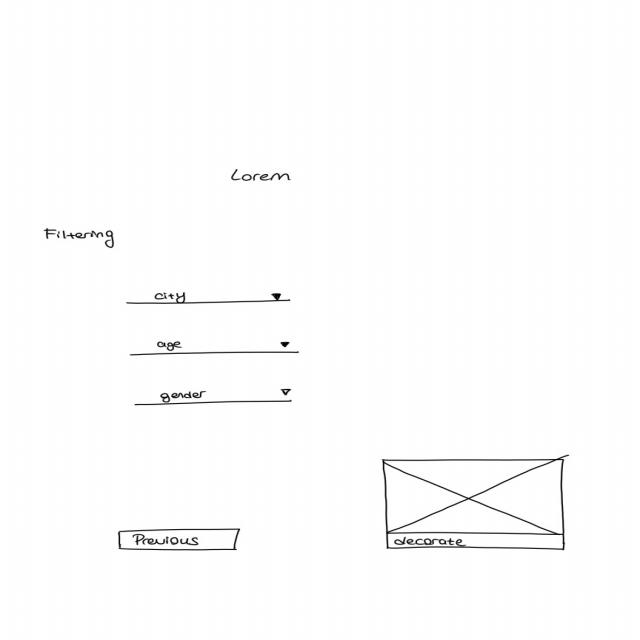button: (381, 531, 568, 550), (117, 526, 240, 552)
image: (381, 457, 567, 536)
label: (41, 227, 116, 250), (228, 168, 293, 184)
select: (133, 386, 294, 409), (129, 338, 300, 359), (122, 289, 292, 307)
